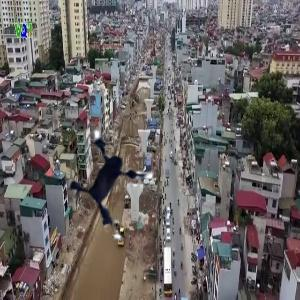drone: (51, 116, 185, 250)
